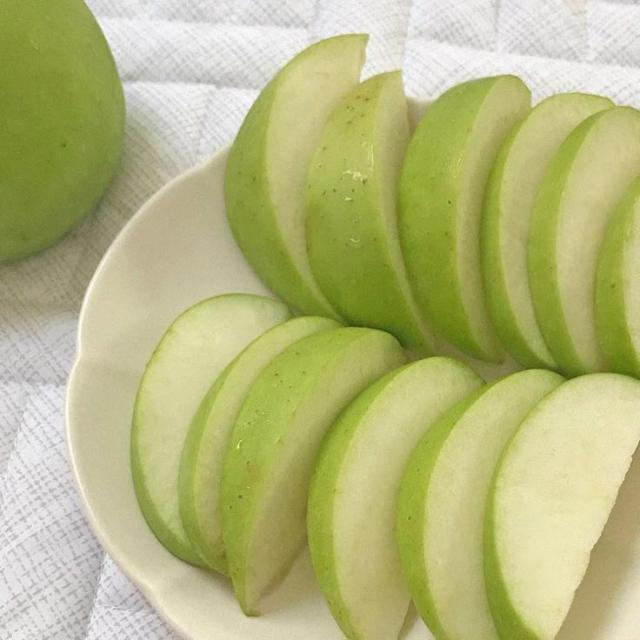apple: (221, 327, 405, 614), (308, 357, 483, 639), (398, 370, 564, 639), (131, 294, 289, 565), (485, 374, 639, 639), (180, 317, 339, 573), (225, 34, 367, 316), (399, 76, 530, 361), (481, 94, 613, 368), (306, 72, 433, 352), (0, 0, 125, 261), (528, 107, 639, 375), (595, 179, 639, 377)
